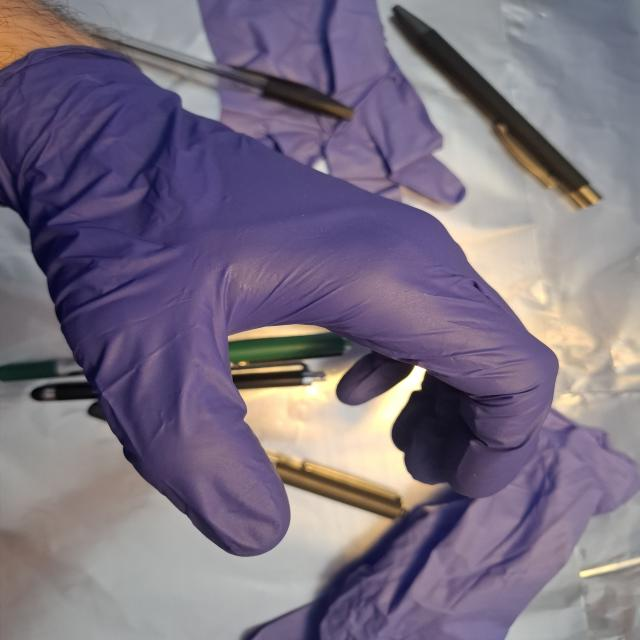glove_on: (0, 41, 565, 562)
